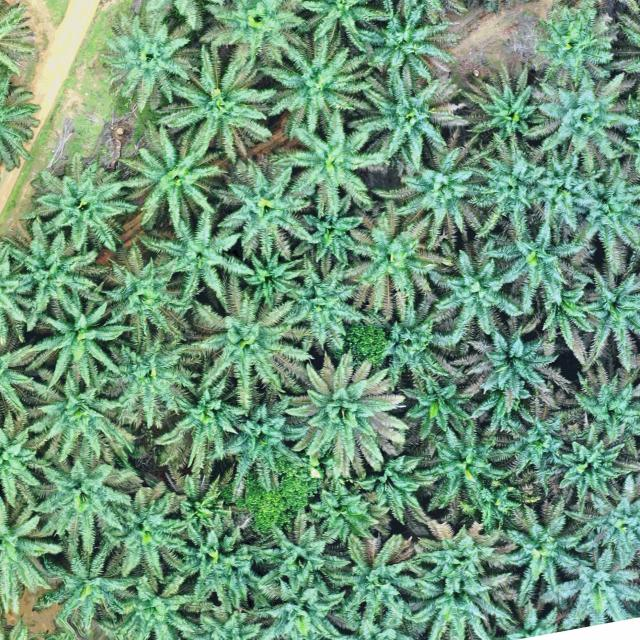Tree: (172, 287, 321, 415), (279, 350, 412, 481), (148, 38, 278, 163), (335, 198, 459, 329), (345, 60, 473, 175), (112, 119, 230, 243), (268, 104, 391, 216), (15, 147, 142, 255), (27, 443, 146, 555), (16, 367, 140, 473), (445, 322, 569, 427), (201, 392, 314, 506), (370, 142, 488, 250), (253, 34, 376, 135), (517, 69, 640, 169), (96, 7, 210, 114), (0, 214, 111, 322), (88, 328, 204, 430), (482, 208, 596, 310), (142, 204, 258, 304), (458, 130, 564, 238), (212, 152, 318, 260), (413, 418, 523, 522), (548, 155, 640, 278), (492, 497, 592, 610), (428, 236, 530, 346), (30, 290, 135, 393), (30, 542, 144, 636), (170, 504, 268, 612), (332, 523, 427, 634), (485, 392, 585, 495), (96, 242, 190, 350), (150, 376, 249, 476), (274, 258, 370, 359), (374, 292, 472, 390), (519, 0, 623, 92), (347, 0, 458, 85), (248, 518, 356, 601), (542, 421, 640, 508), (569, 255, 640, 374), (562, 468, 640, 576), (565, 359, 640, 469), (407, 518, 506, 601), (0, 493, 66, 616), (530, 148, 616, 240), (198, 0, 312, 69), (106, 481, 190, 573), (462, 60, 546, 150), (99, 569, 203, 640), (242, 576, 355, 640), (299, 478, 393, 546), (398, 372, 478, 446), (288, 198, 368, 268), (289, 0, 396, 51), (0, 415, 56, 512), (0, 235, 41, 350), (0, 67, 41, 182), (0, 328, 42, 435), (175, 605, 286, 640), (240, 249, 300, 313), (0, 0, 35, 86), (0, 615, 61, 640)
